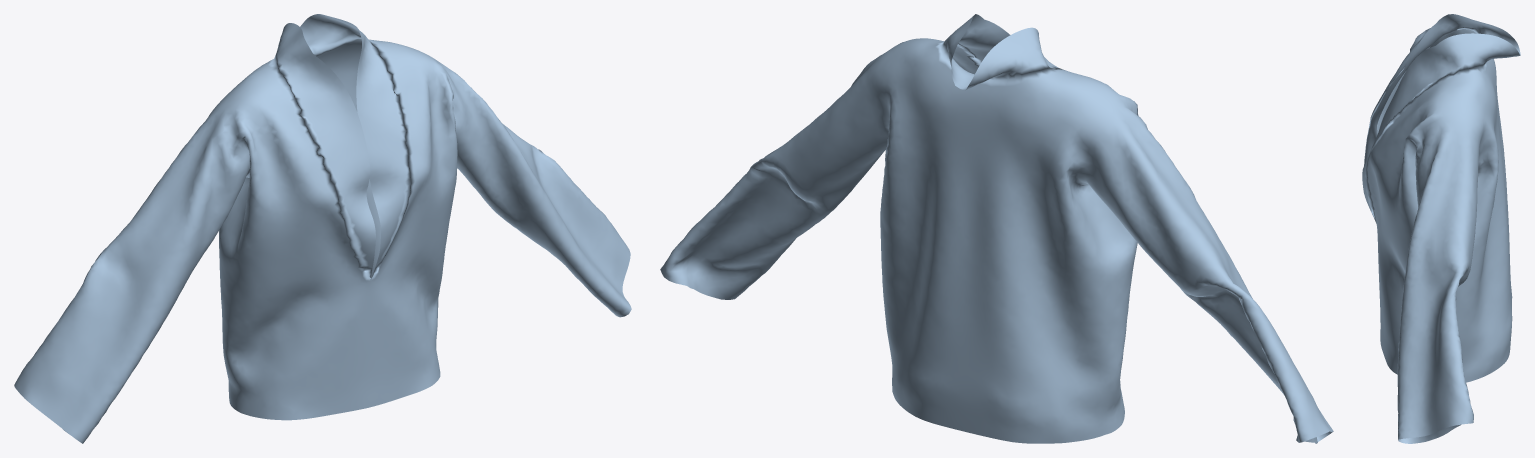
The model's file is jacket_S.glb.
The picture shows the model from 3 angles, left to right: view 1: azimuth 30°, elevation 25°; view 2: azimuth 150°, elevation 25°; view 3: azimuth 270°, elevation 25°; orthographic projection. The views are drawn at different scales.
Visible parts, largest first — view 1: geometry_0; view 2: geometry_0; view 3: geometry_0.
Boxes of the visible parts, box(x1,y1,x2,y2) form: geometry_0: box(14, 14, 631, 443); geometry_0: box(660, 14, 1333, 443); geometry_0: box(1362, 14, 1520, 443).
Bounding box in the file's own units: 1.18 × 0.6562 × 0.2963.
